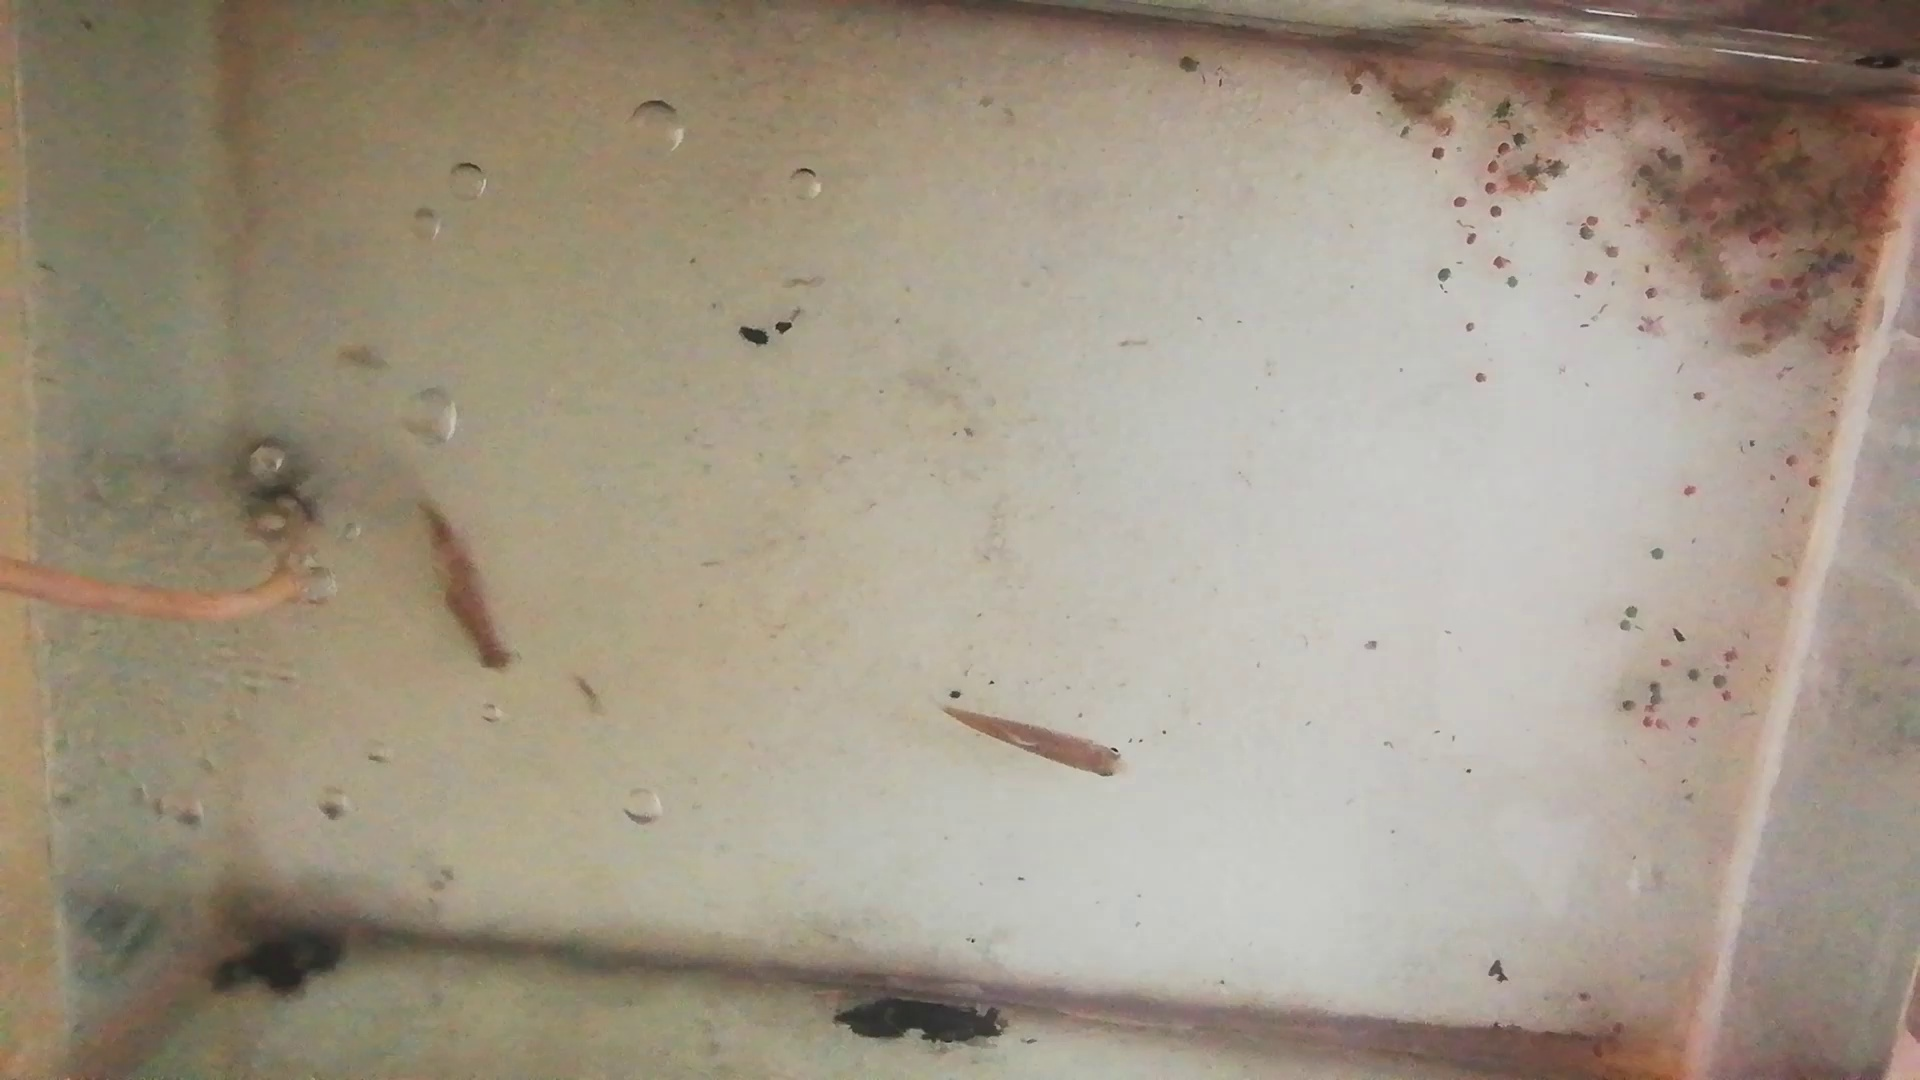fish: (415, 491, 520, 678), (939, 702, 1129, 783)
